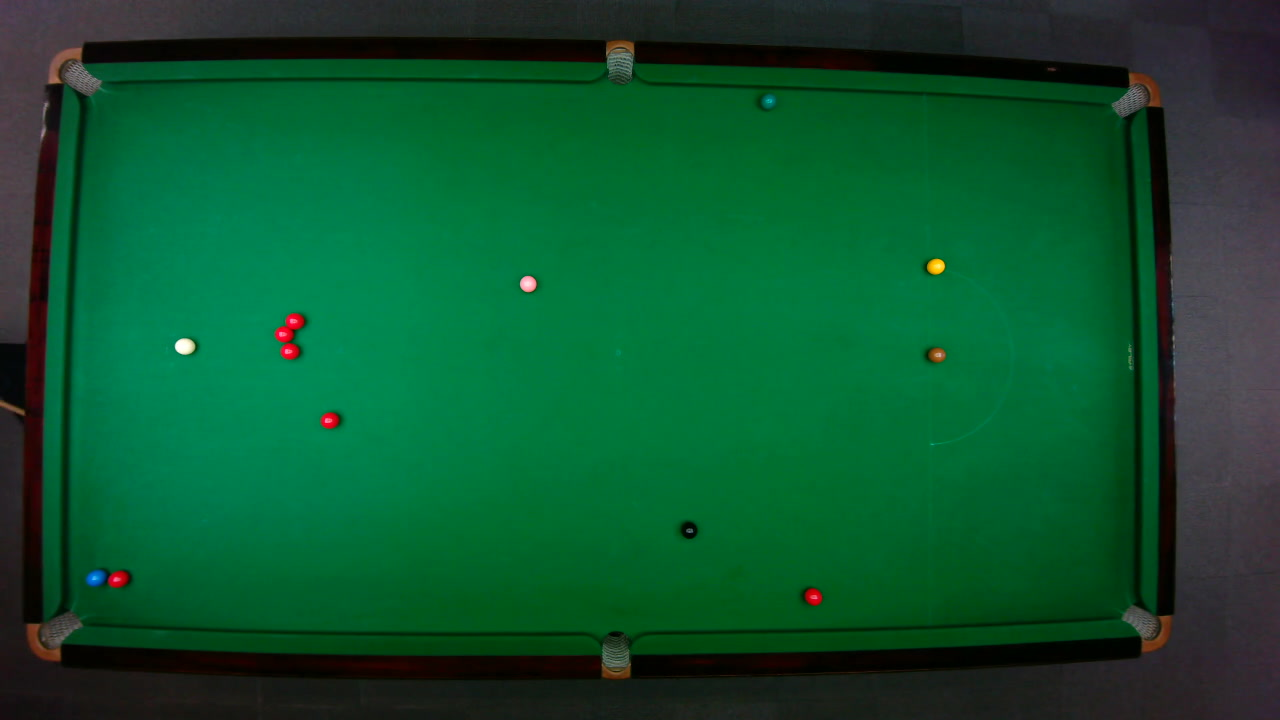bag: (25, 609, 83, 662), (46, 46, 102, 96), (1119, 603, 1171, 652), (1108, 71, 1162, 118), (600, 629, 629, 680), (605, 38, 633, 85)
black: (679, 520, 697, 539)
blue: (84, 567, 106, 586)
brown: (926, 346, 946, 362)
green: (758, 92, 776, 110)
pink: (518, 274, 537, 292)
red: (105, 568, 130, 588), (803, 586, 823, 606), (284, 311, 305, 330), (319, 411, 340, 429), (273, 324, 293, 342), (279, 342, 300, 359)
white: (173, 336, 196, 355)
yellow: (925, 257, 945, 274)
zone: (927, 266, 1013, 445)
